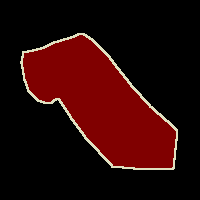tie: (21, 33, 177, 169)
